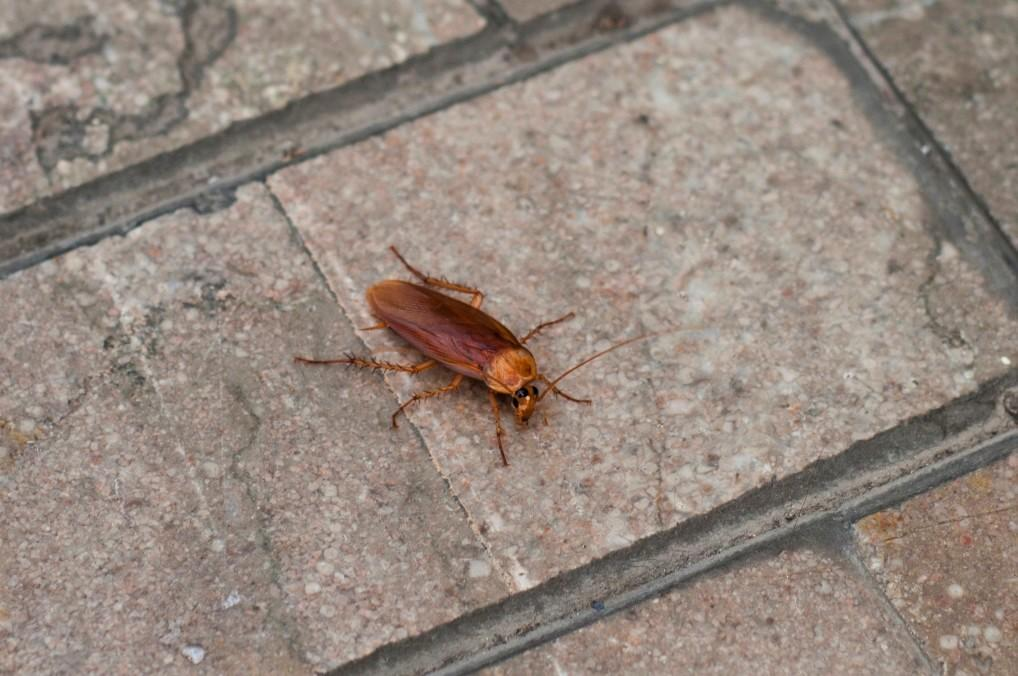cockroach: (367, 276, 543, 428)
